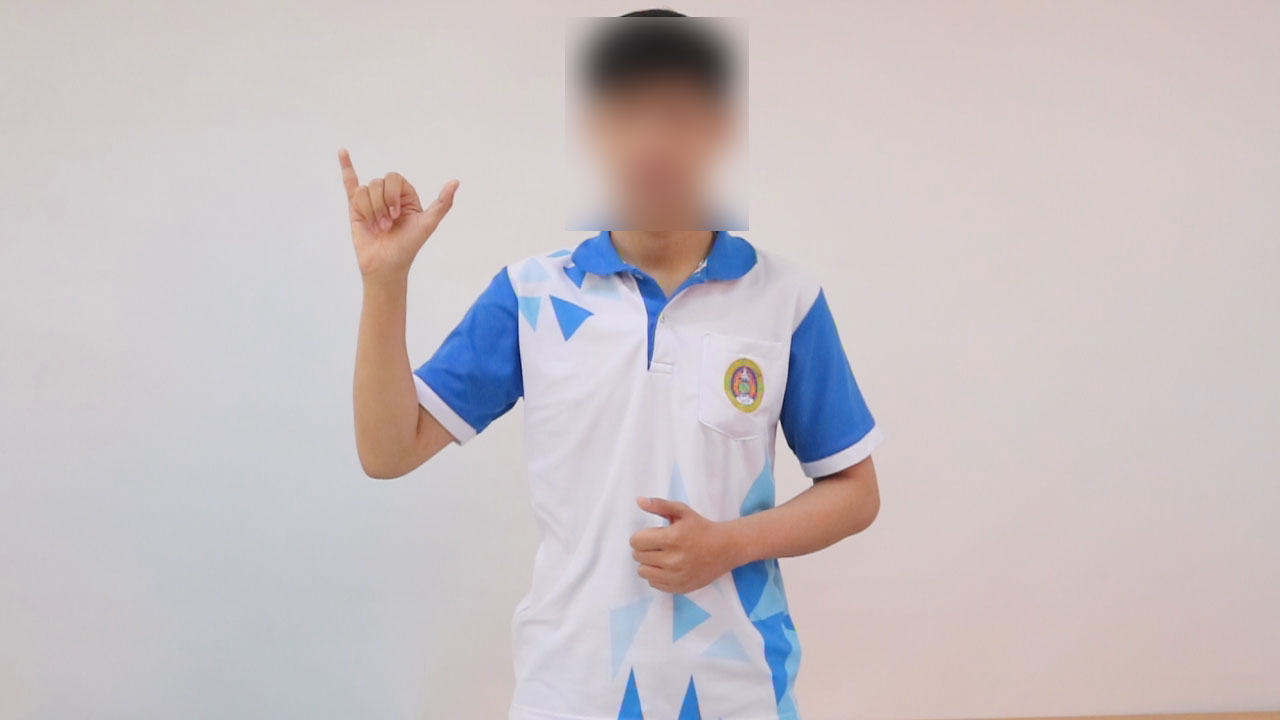yor: (326, 145, 465, 286)
